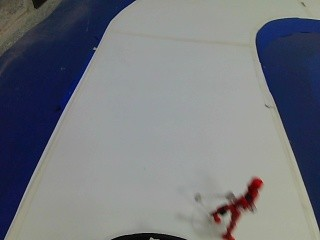pedestrian: (205, 169, 262, 238)
